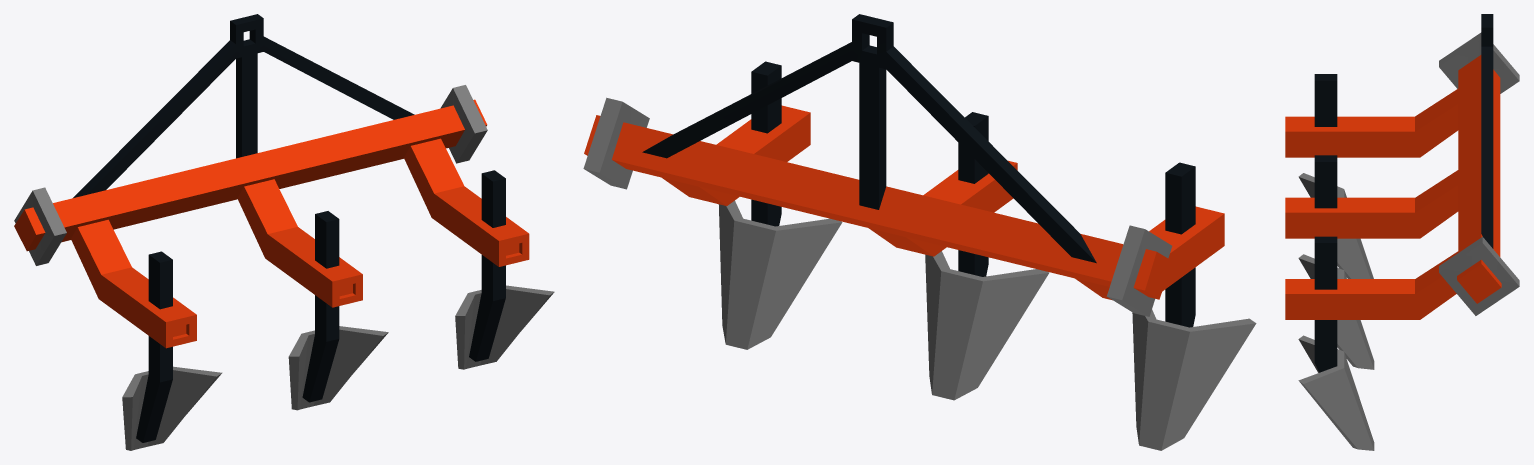
Rendered from Agricultural_Machine_1_1.fbx.
3 renders of one model, left to right at view 1: azimuth 30°, elevation 25°; view 2: azimuth 150°, elevation 25°; view 3: azimuth 270°, elevation 25°, orthographic. The views are drawn at different scales.
Visible parts, largest first — view 1: Agricultural_Machine_1_1; view 2: Agricultural_Machine_1_1; view 3: Agricultural_Machine_1_1.
Boxes of the visible parts, x1=… form: Agricultural_Machine_1_1: x1=14, y1=14, x2=554, y2=450; Agricultural_Machine_1_1: x1=583, y1=14, x2=1256, y2=450; Agricultural_Machine_1_1: x1=1285, y1=14, x2=1519, y2=450.
Bounding box in the file's own units: 97.13 × 70.86 × 43.66.
